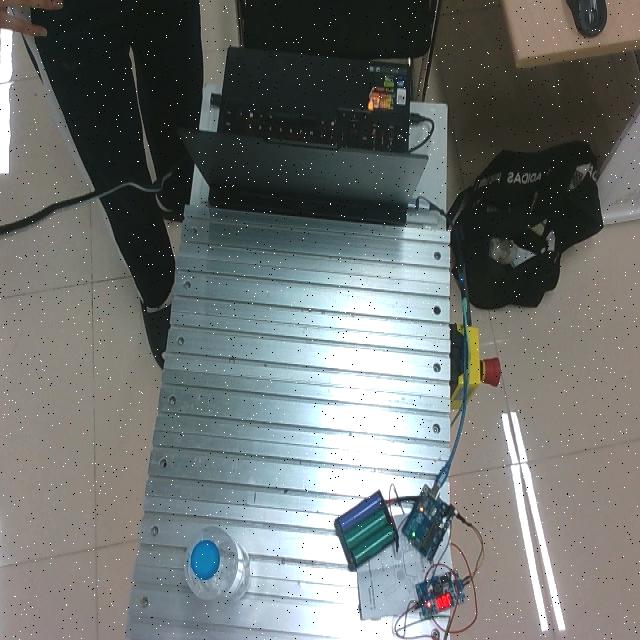lavie: (183, 523, 251, 609)
